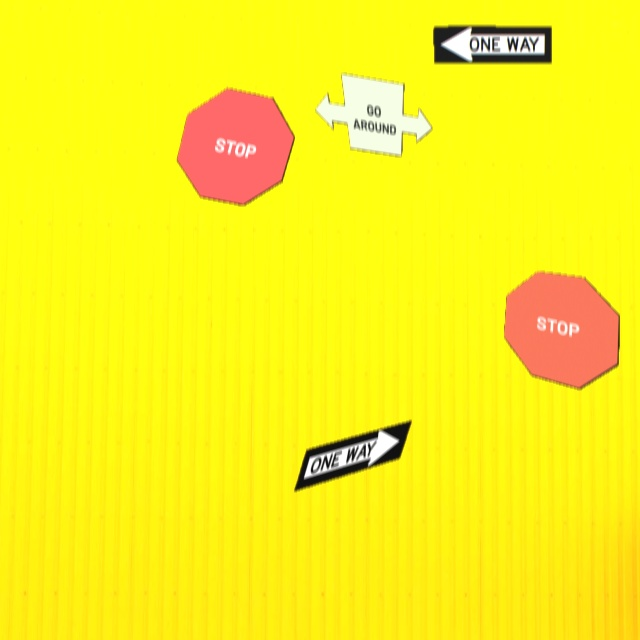GO_AROUND: (314, 72, 433, 156)
ONE_WAY_ left: (433, 25, 552, 63)
ONE_WAY_ right: (293, 419, 412, 491)
STOP: (176, 87, 295, 205), (503, 270, 620, 389)
